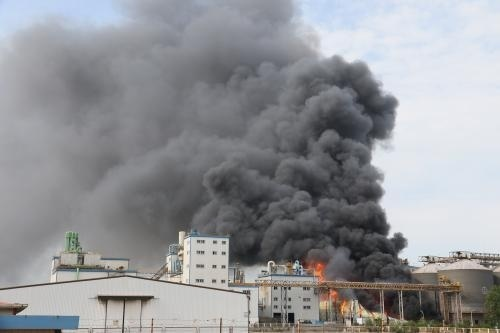fire: (322, 290, 348, 311), (309, 259, 326, 280)
